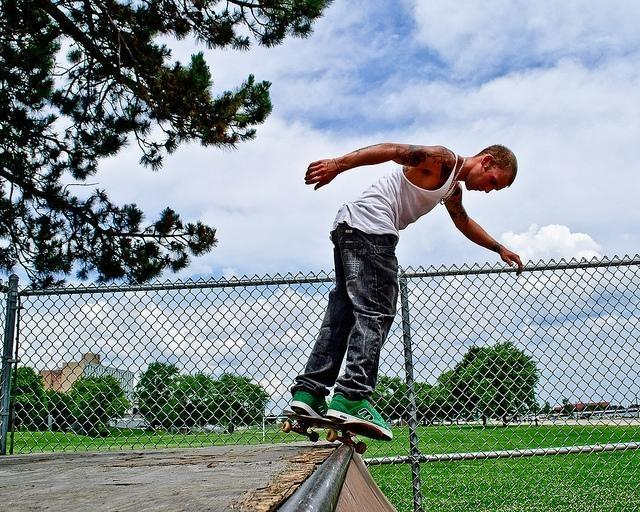car: (588, 413, 606, 419), (540, 414, 546, 420)
